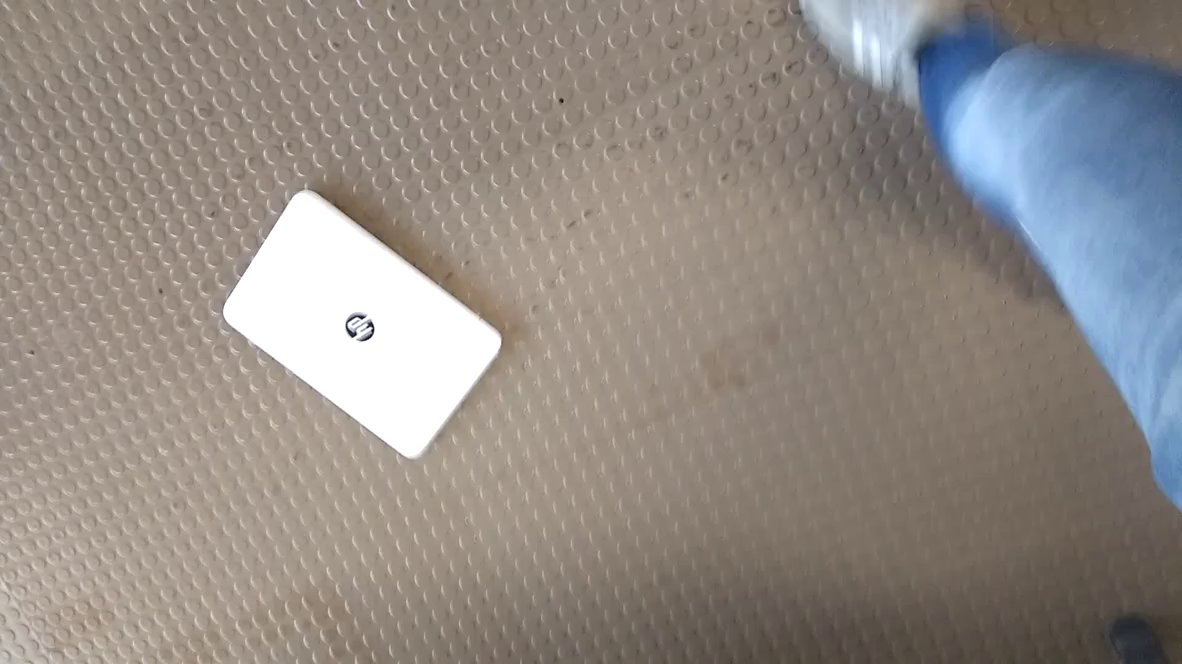laptop: (209, 181, 511, 465)
